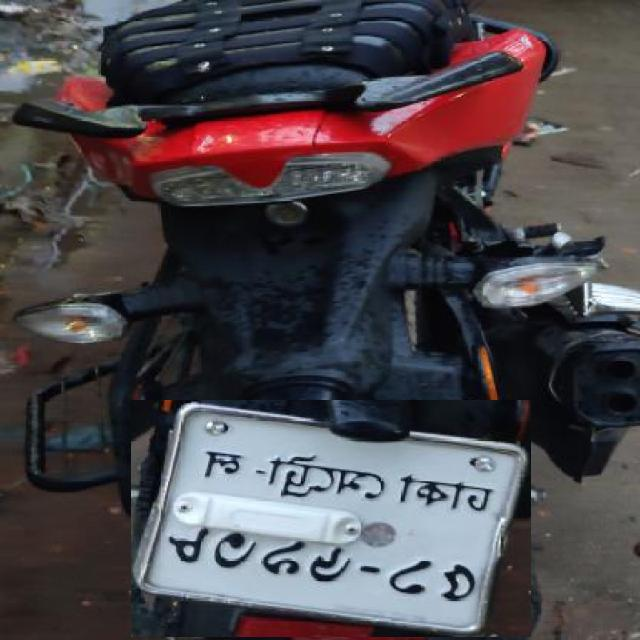numberplate: (131, 400, 531, 637)
